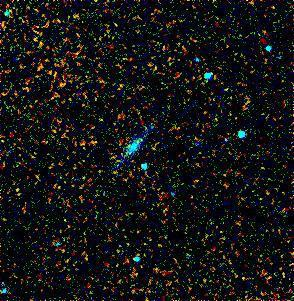star: (67, 132, 97, 162)
